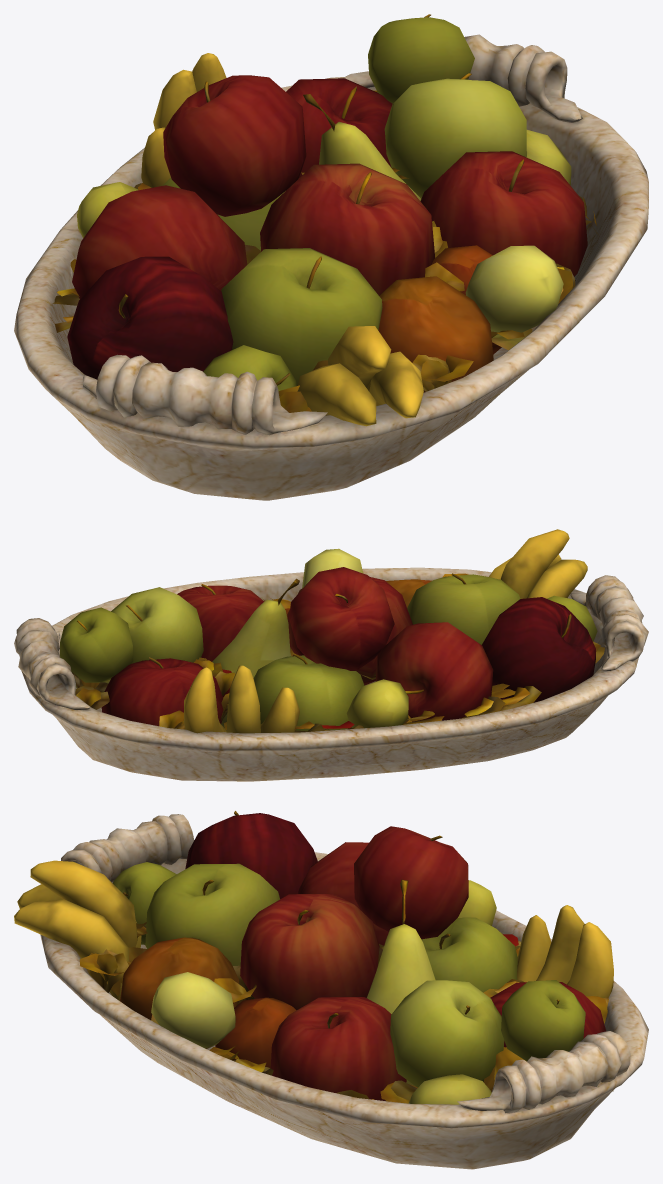
The model's file is Fruits.glb.
3 renders of one model, top to bottom at view 1: azimuth 30°, elevation 25°; view 2: azimuth 150°, elevation 25°; view 3: azimuth 270°, elevation 25°, orthographic. The views are drawn at different scales.
Parts seen in each view (by area): view 1: SM_Fruits; view 2: SM_Fruits; view 3: SM_Fruits.
Part boxes in pixels (x1,y1,x2,y2): SM_Fruits: [14, 14, 648, 500]; SM_Fruits: [14, 529, 648, 781]; SM_Fruits: [14, 811, 648, 1169].
Size of the model in its own units: 0.3498 by 0.1296 by 0.3412.
Materials: 1 (1 with a texture image).
